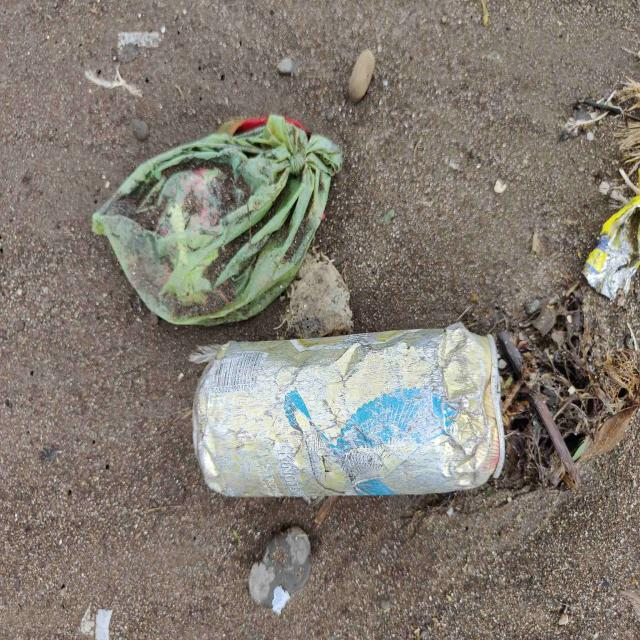biowaste: (496, 330, 640, 486), (617, 121, 640, 173), (618, 77, 640, 112)
metal: (193, 324, 505, 500)
plastic: (91, 114, 342, 325), (577, 405, 580, 406)
wrapper: (584, 195, 640, 299)
